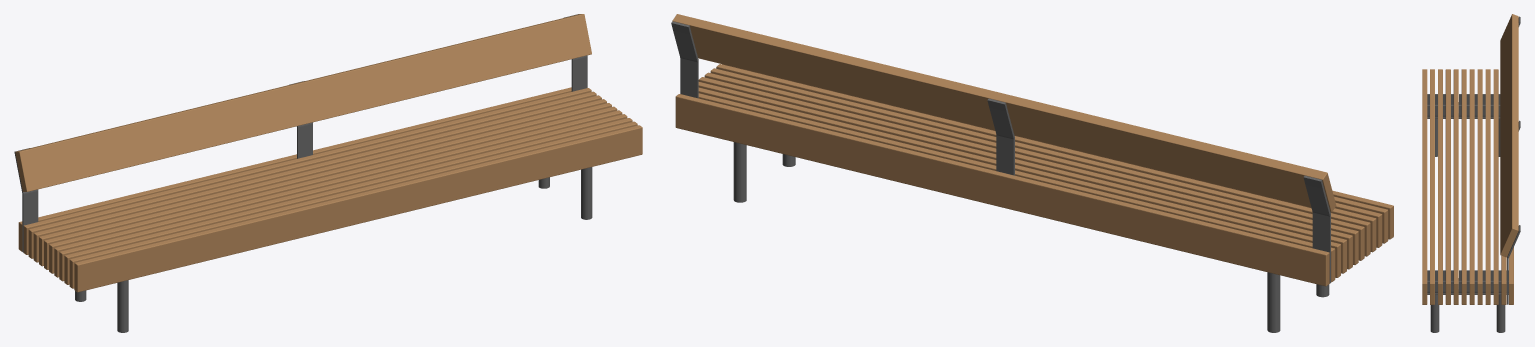
Rendered from Skamya_11.glb.
3 renders of one model, left to right at view 1: azimuth 30°, elevation 25°; view 2: azimuth 150°, elevation 25°; view 3: azimuth 270°, elevation 25°, orthographic. The views are drawn at different scales.
Visible parts, largest first — view 1: Fake; view 2: Fake; view 3: Fake.
Part boxes in pixels (x1,y1,x2,y2): Fake: [14, 14, 642, 332]; Fake: [671, 14, 1393, 332]; Fake: [1422, 14, 1520, 332].
Bounding box in the file's own units: 3 × 0.7883 × 0.5822.
